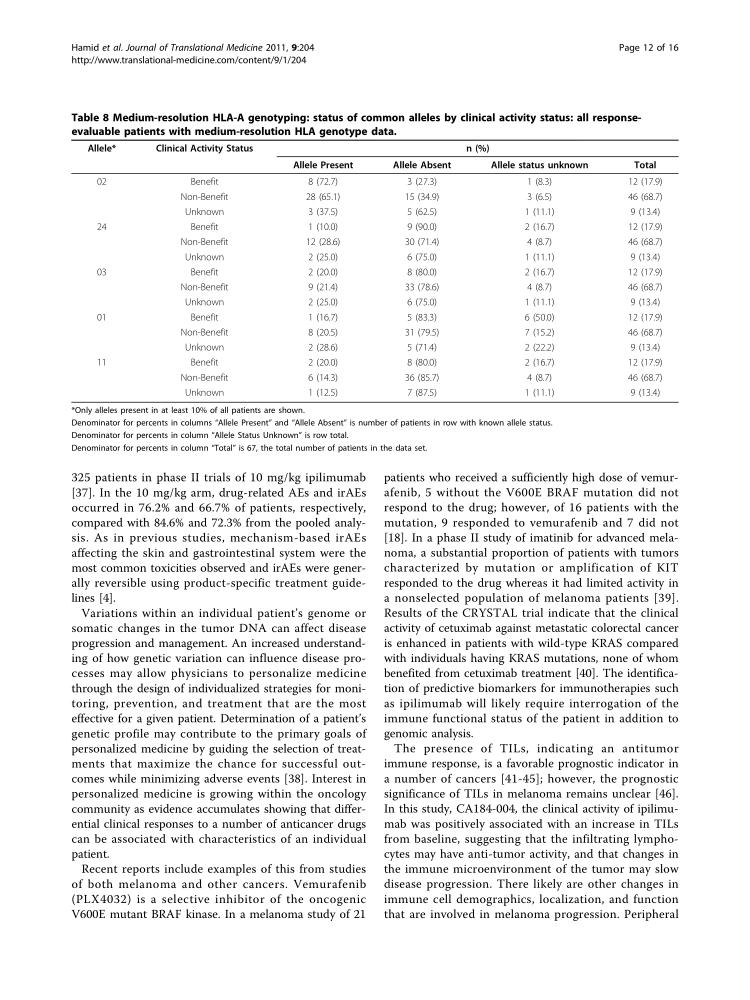table: (87, 142, 662, 398)
